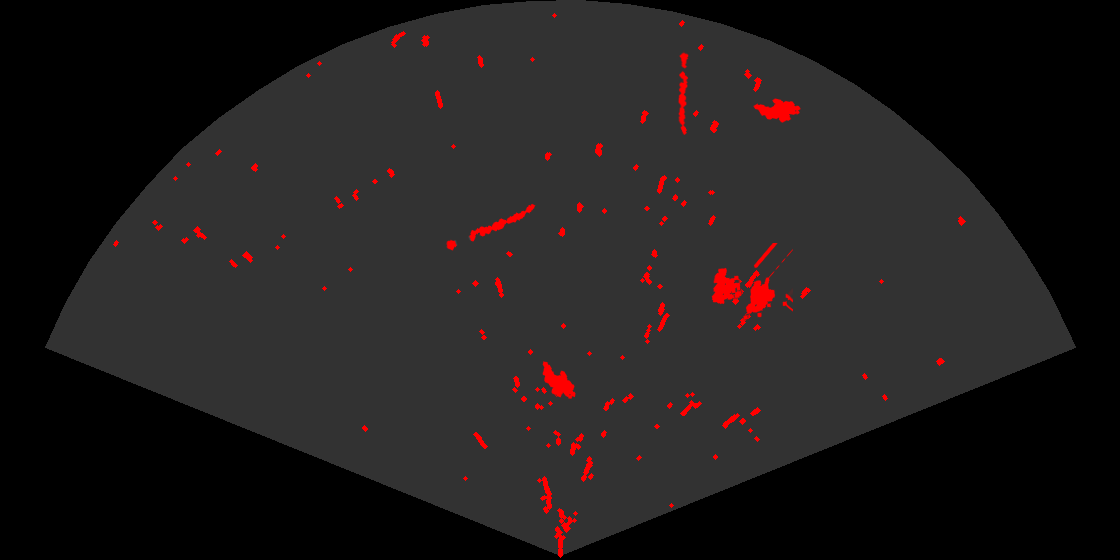AUV: (541, 360, 577, 400), (752, 97, 802, 124)
cage: (710, 243, 793, 321)
chain: (444, 202, 537, 252), (677, 50, 690, 135)
